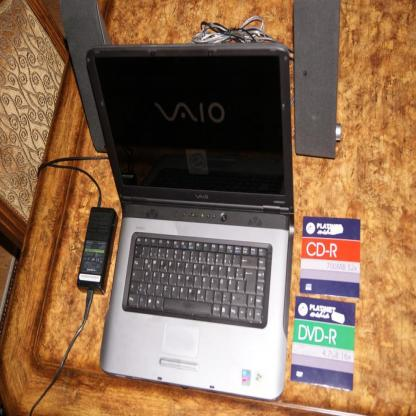board: (87, 26, 300, 410)
